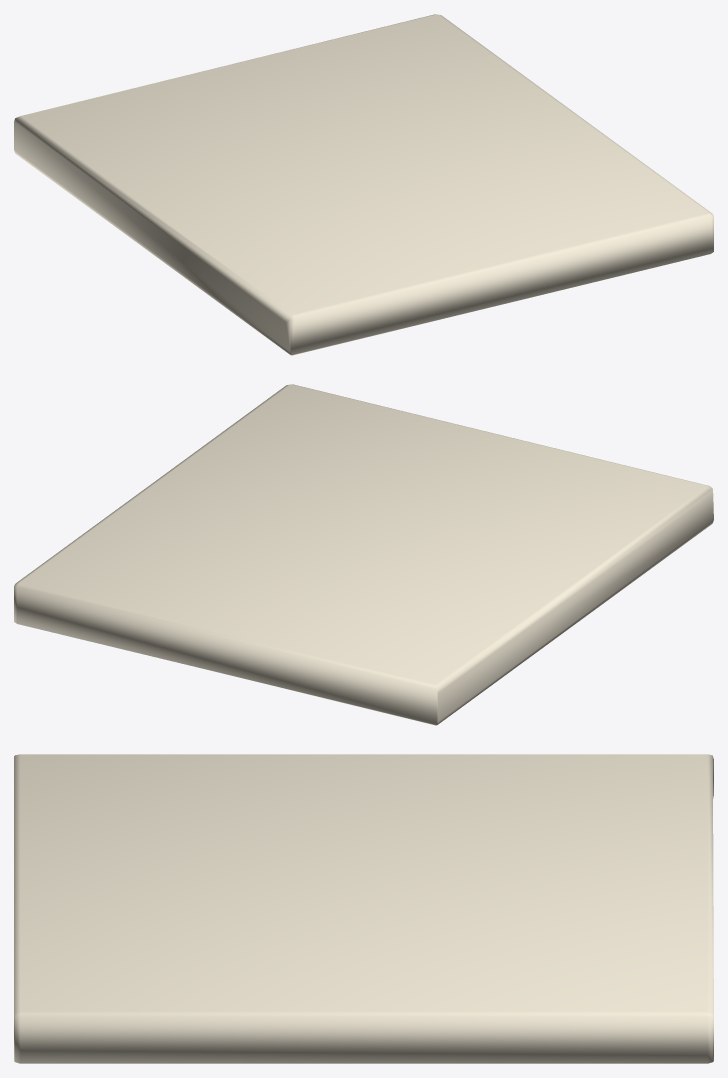
File: build_wall_straight.glb
3 renders of one model, top to bottom at view 1: azimuth 30°, elevation 25°; view 2: azimuth 150°, elevation 25°; view 3: azimuth 270°, elevation 25°, orthographic. The views are drawn at different scales.
Parts seen in each view (by area): view 1: Wall; view 2: Wall; view 3: Wall.
Boxes of the visible parts, x1=… form: Wall: x1=14, y1=14, x2=713, y2=355; Wall: x1=14, y1=384, x2=713, y2=725; Wall: x1=14, y1=754, x2=713, y2=1063.
Size of the model in its own units: 2.39 by 0.2201 by 2.68.
